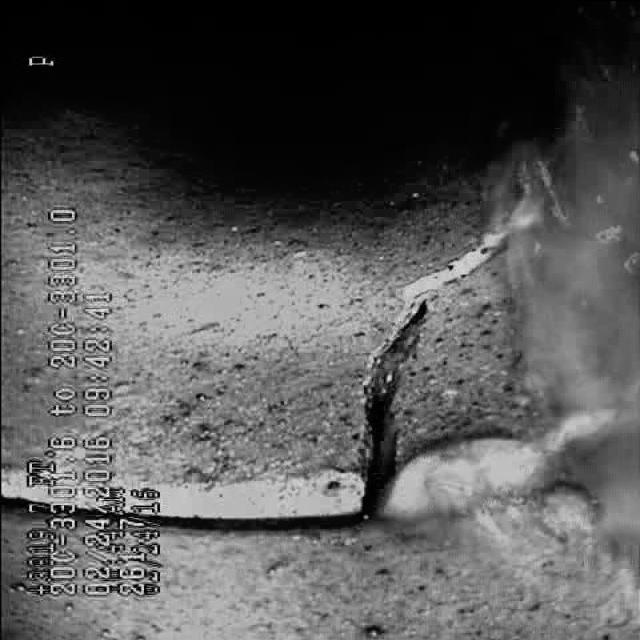Fracture: (278, 217, 512, 501)
